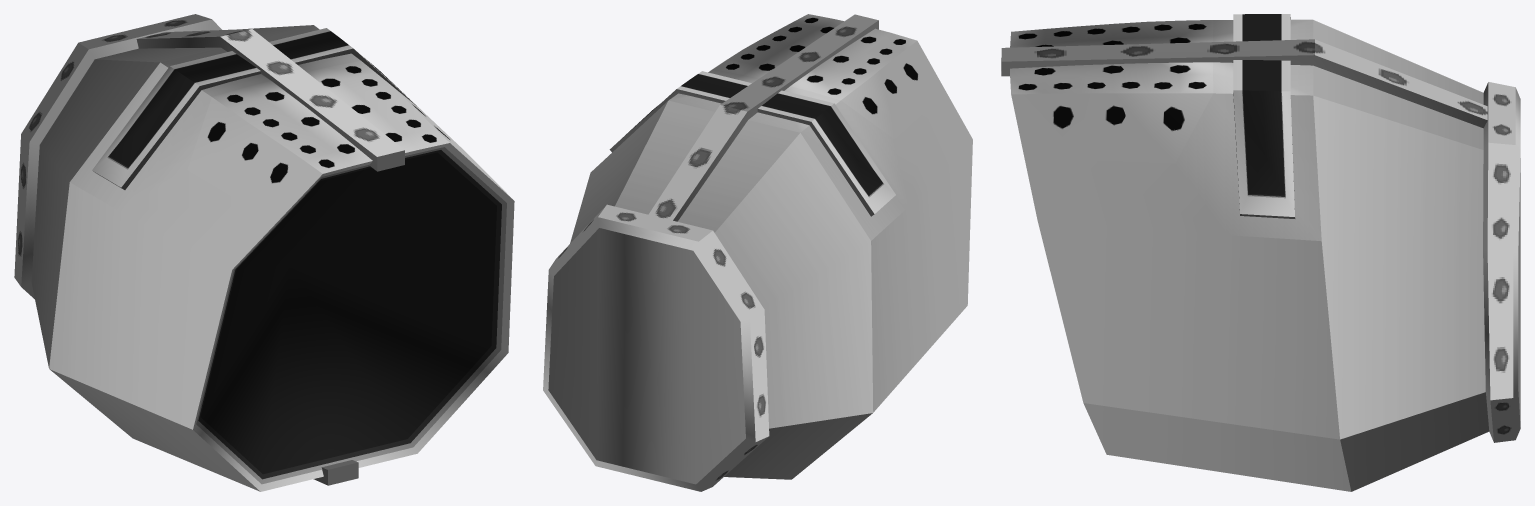
File: GreatHelm.glb
The picture shows the model from 3 angles, left to right: view 1: azimuth 30°, elevation 25°; view 2: azimuth 150°, elevation 25°; view 3: azimuth 270°, elevation 25°; orthographic projection. The views are drawn at different scales.
Visible parts, largest first — view 1: GreatHelm; view 2: GreatHelm; view 3: GreatHelm.
Part boxes in pixels (x1,y1,x2,y2): GreatHelm: (14, 14, 514, 491); GreatHelm: (543, 14, 972, 491); GreatHelm: (1001, 14, 1520, 491).
Bounding box in the file's own units: 0.2796 × 0.3105 × 0.3557.
1 material, 1 textured.
